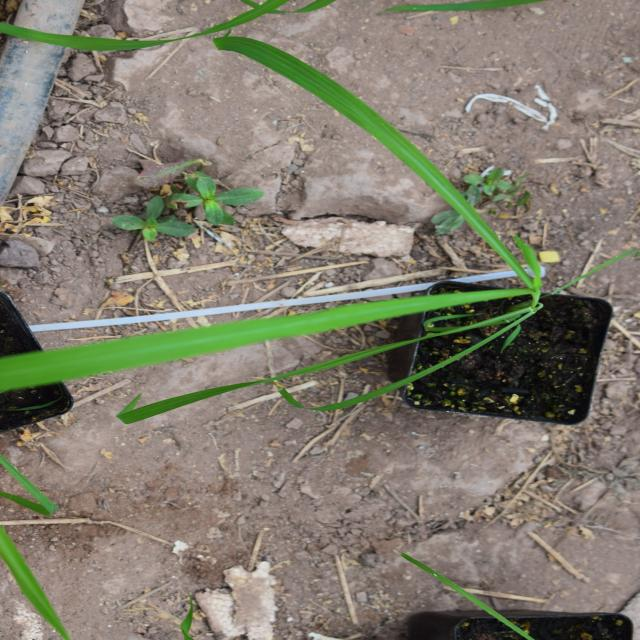barnyard_grass: (82, 115, 426, 600)
